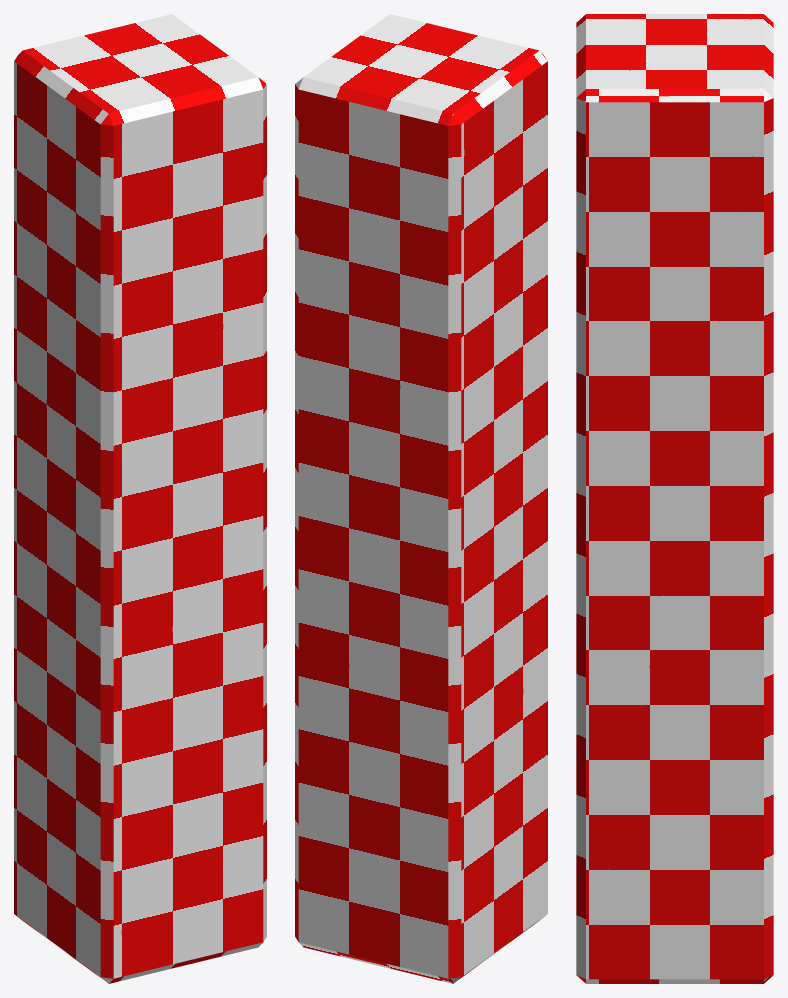
Rendered from woodenStick.dae.
3 renders of one model, left to right at view 1: azimuth 30°, elevation 25°; view 2: azimuth 150°, elevation 25°; view 3: azimuth 270°, elevation 25°, orthographic. The views are drawn at different scales.
Parts seen in each view (by area): view 1: Cube; view 2: Cube; view 3: Cube.
Part boxes in pixels (left/top/right/bottom): Cube: left=14, top=14, right=266, bottom=983; Cube: left=295, top=14, right=547, bottom=983; Cube: left=576, top=14, right=773, bottom=983.
Bounding box in the file's own units: 0.2 × 0.2 × 1.
1 material, 1 textured.
